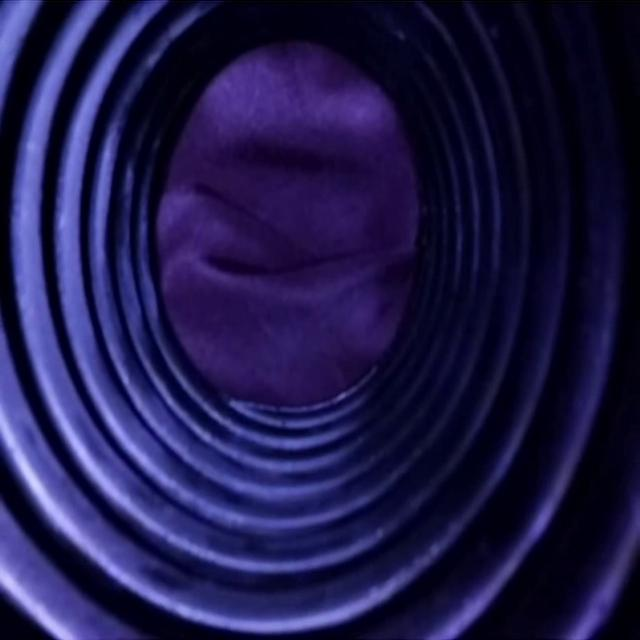block: (157, 43, 422, 413)
